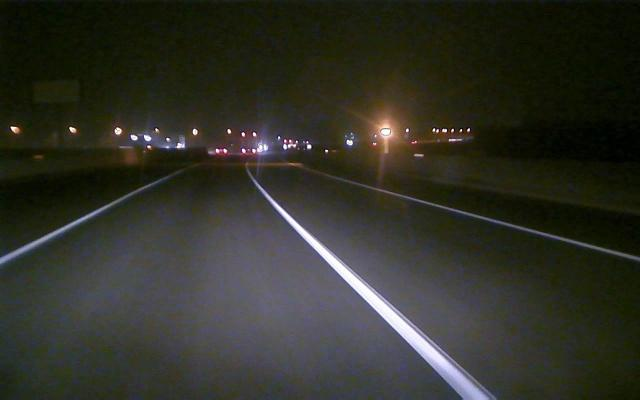lane: (255, 180, 494, 396), (361, 184, 640, 262), (2, 182, 155, 263)
